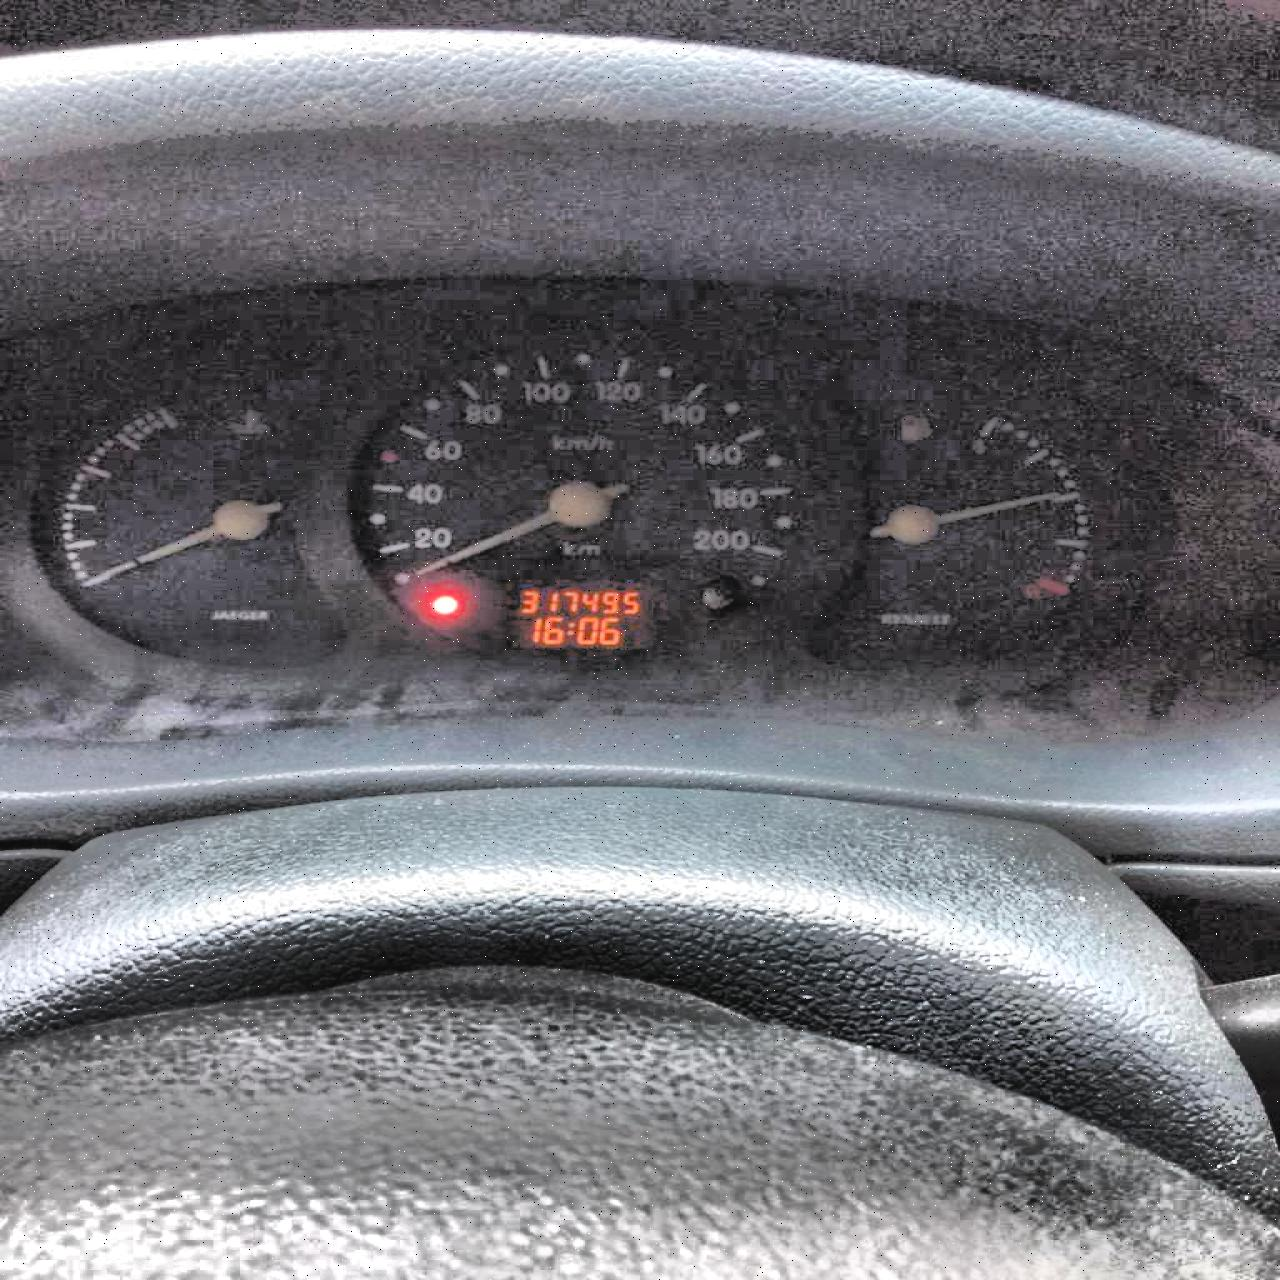0: (576, 617, 597, 644)
1: (529, 617, 539, 642), (545, 591, 558, 610)
3: (518, 590, 538, 612)
4: (580, 591, 598, 611)
5: (620, 590, 639, 614)
6: (598, 617, 620, 645), (542, 615, 564, 644)
7: (561, 590, 577, 611)
9: (600, 590, 618, 612)
X: (565, 621, 573, 635)
odometer: (490, 579, 667, 655)
